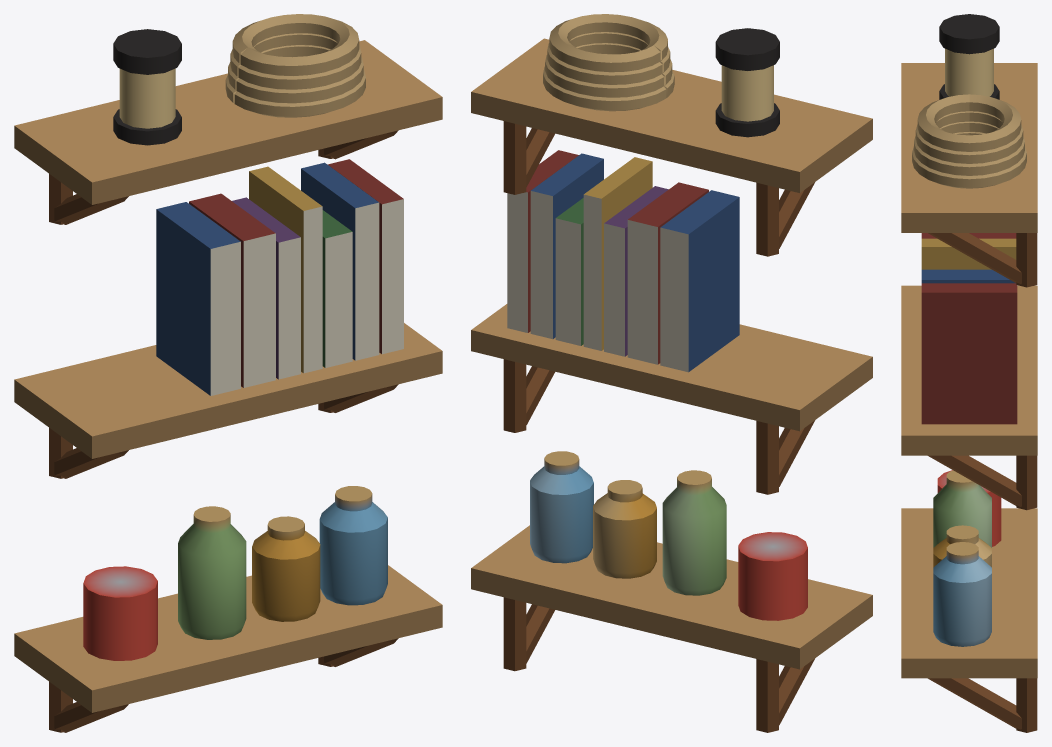
File: Hut_Shelf.fbx
The picture shows the model from 3 angles, left to right: view 1: azimuth 30°, elevation 25°; view 2: azimuth 150°, elevation 25°; view 3: azimuth 270°, elevation 25°; orthographic projection. The views are drawn at different scales.
Visible parts, largest first — view 1: Hut_Shelf; view 2: Hut_Shelf; view 3: Hut_Shelf.
Part boxes in pixels (bbox=[...]): Hut_Shelf: bbox=[14, 14, 442, 732]; Hut_Shelf: bbox=[471, 14, 872, 732]; Hut_Shelf: bbox=[901, 14, 1037, 732].
Size of the model in its own units: 26 by 49.38 by 10.
